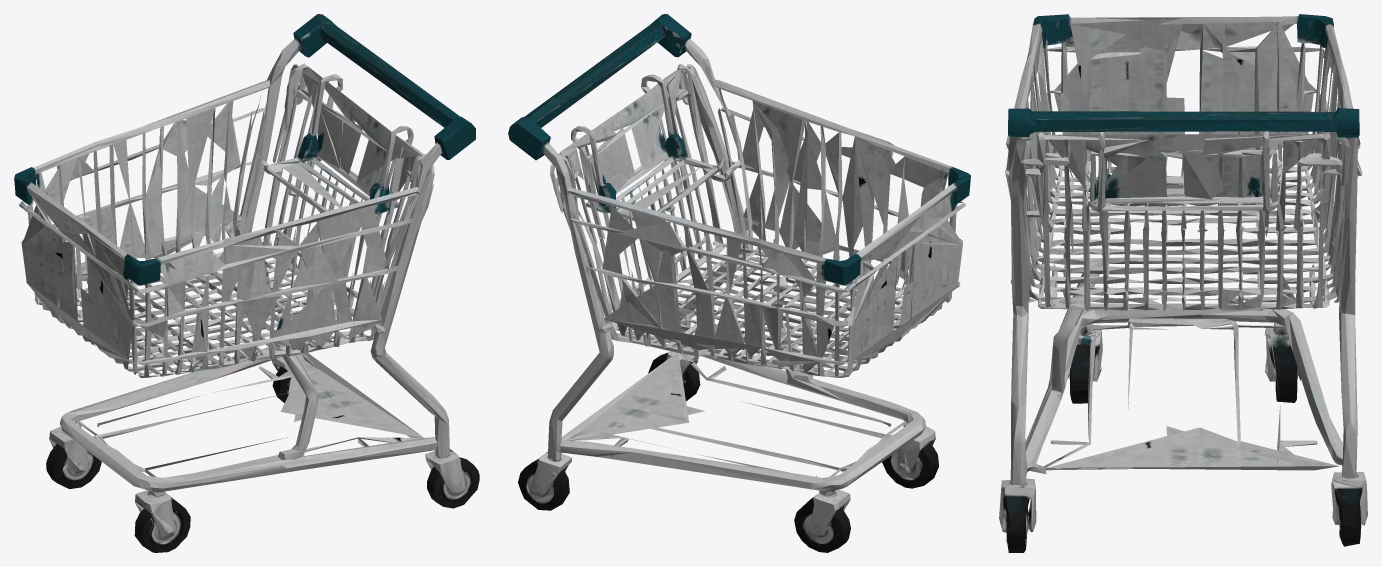
The model's file is shopping-cart.glb.
The picture shows the model from 3 angles, left to right: view 1: azimuth 30°, elevation 25°; view 2: azimuth 150°, elevation 25°; view 3: azimuth 270°, elevation 25°; orthographic projection. The views are drawn at different scales.
Parts seen in each view (by area): view 1: output_unwrapped; view 2: output_unwrapped; view 3: output_unwrapped.
Part boxes in pixels (x1=…): output_unwrapped: x1=14, y1=14, x2=479, y2=552; output_unwrapped: x1=508, y1=14, x2=970, y2=552; output_unwrapped: x1=999, y1=14, x2=1367, y2=552.
Size of the model in its own units: 1.72 by 1.9 by 1.42.
Materials: 1 (1 with a texture image).
